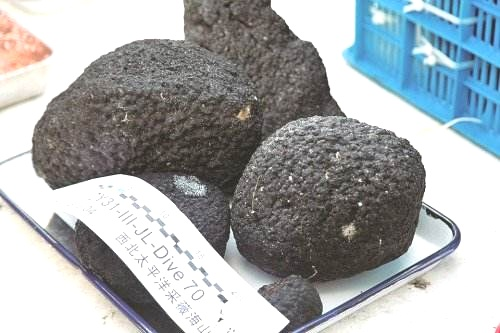halobolite: (231, 113, 430, 273), (39, 37, 254, 185), (179, 1, 349, 158), (79, 166, 235, 296), (249, 271, 328, 330)
